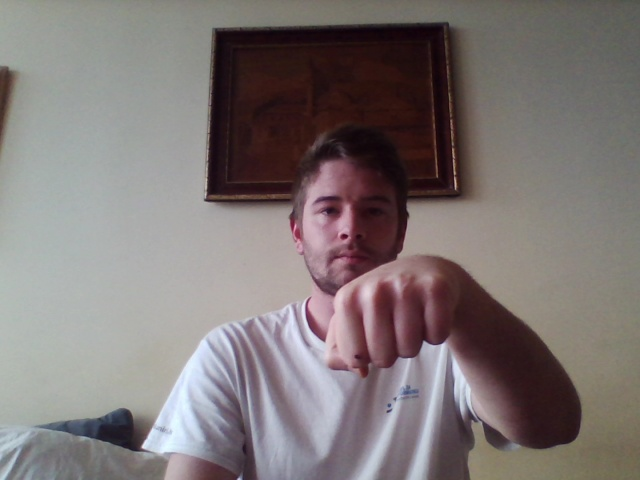da: (324, 254, 464, 377)
